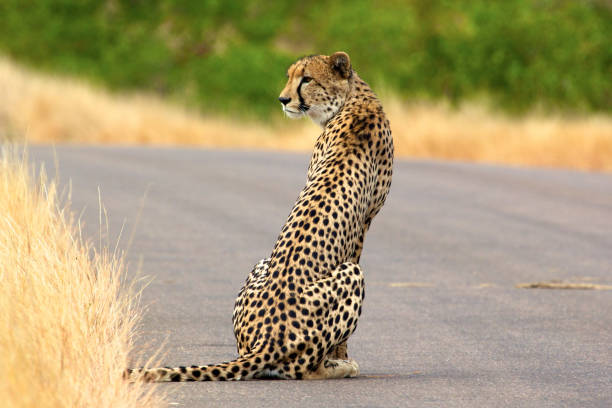cheetah: (277, 40, 368, 129)
